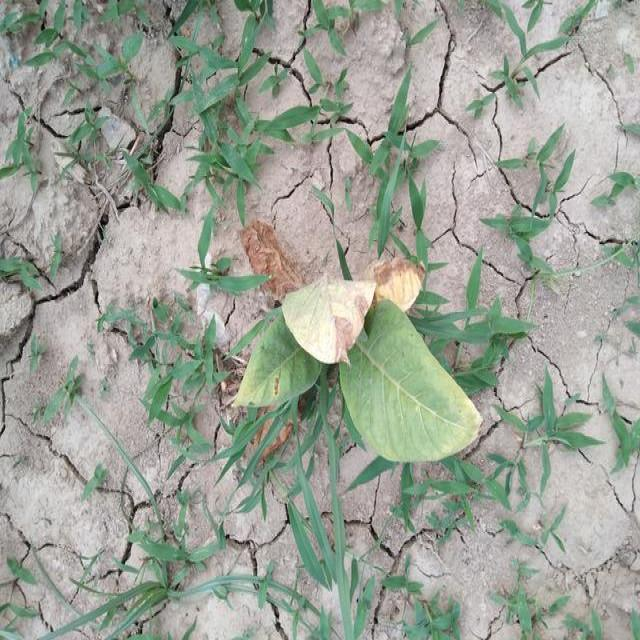crop: (237, 228, 483, 464)
